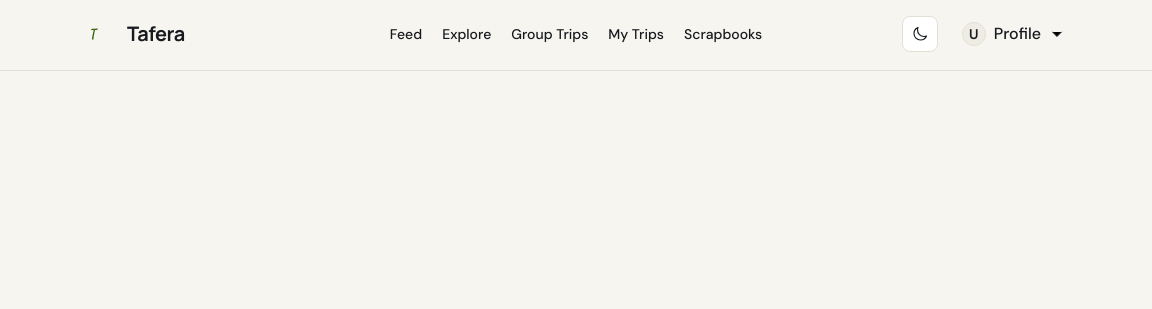
Scenario: Header logout › displays Signing out... state during logout
Click the text "Profile": x=1017, y=34 x1=994 y1=22 x2=1041 y2=46
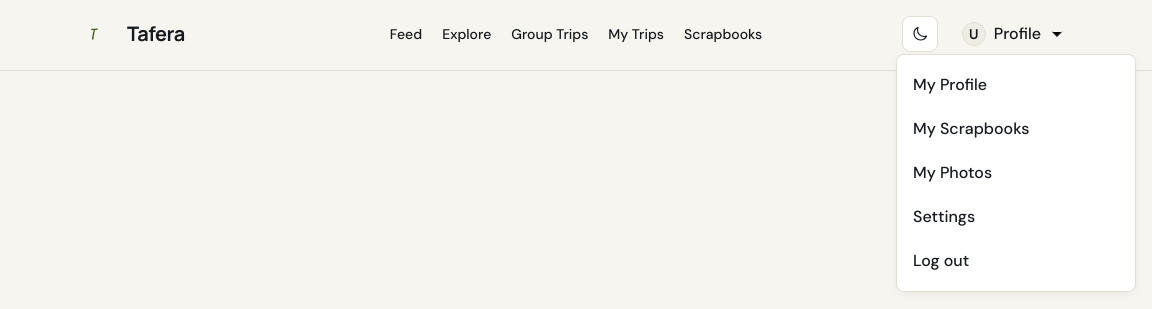
Click the button "Log out": x=1016, y=261 x1=897 y1=239 x2=1135 y2=283
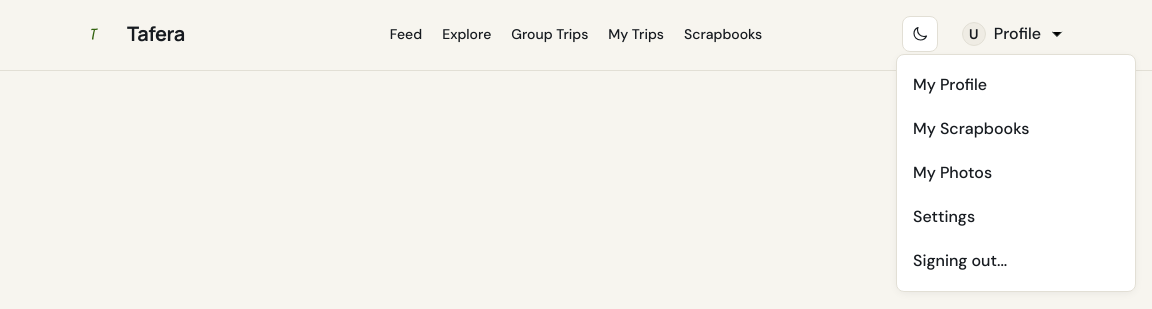
Result: the button "Signing out..." is disabled at x1=897 y1=239 x2=1135 y2=283
